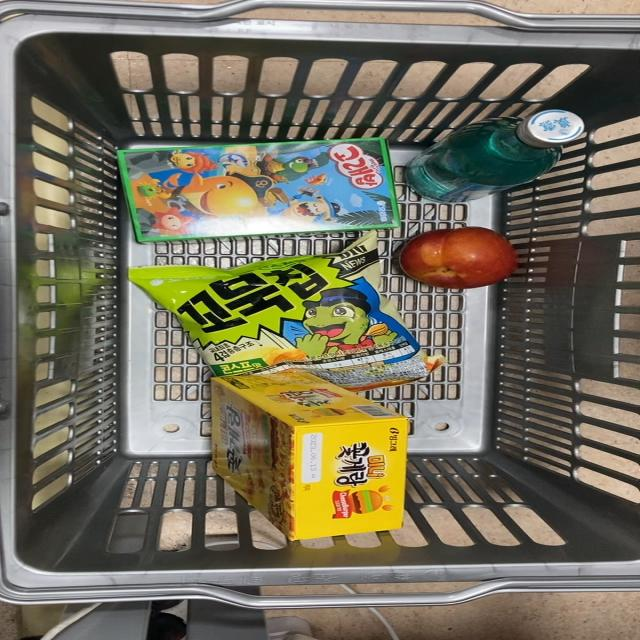ggobukchip: (120, 232, 461, 424)
goraebob: (116, 134, 396, 246)
jinro: (394, 109, 585, 212)
minicrab: (197, 369, 406, 548)
plum: (396, 223, 526, 297)
